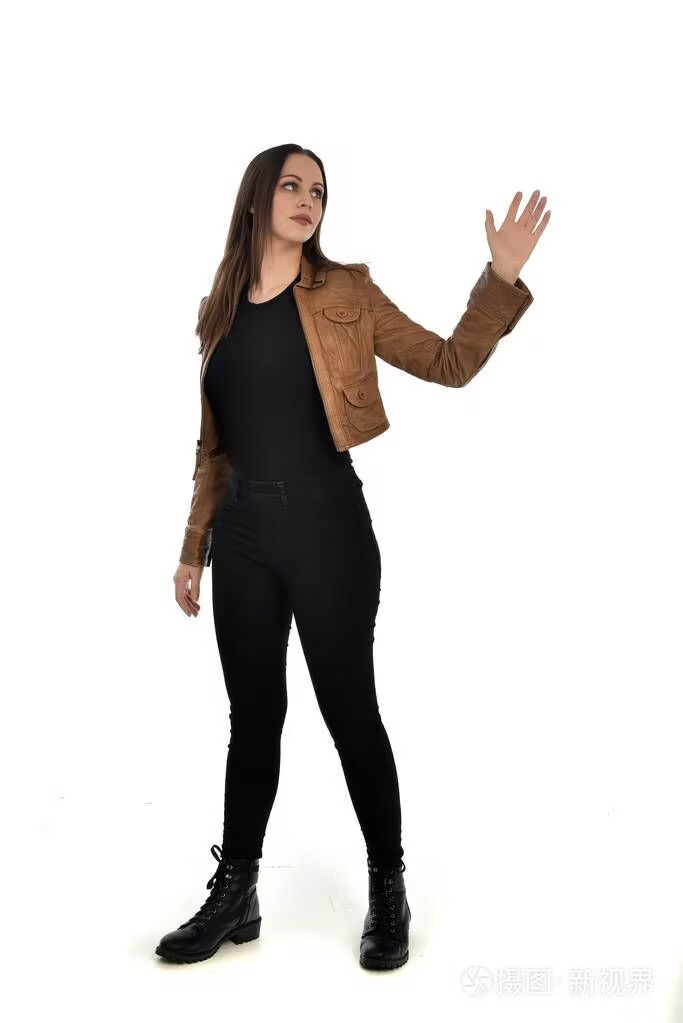up: (111, 112, 606, 987)
